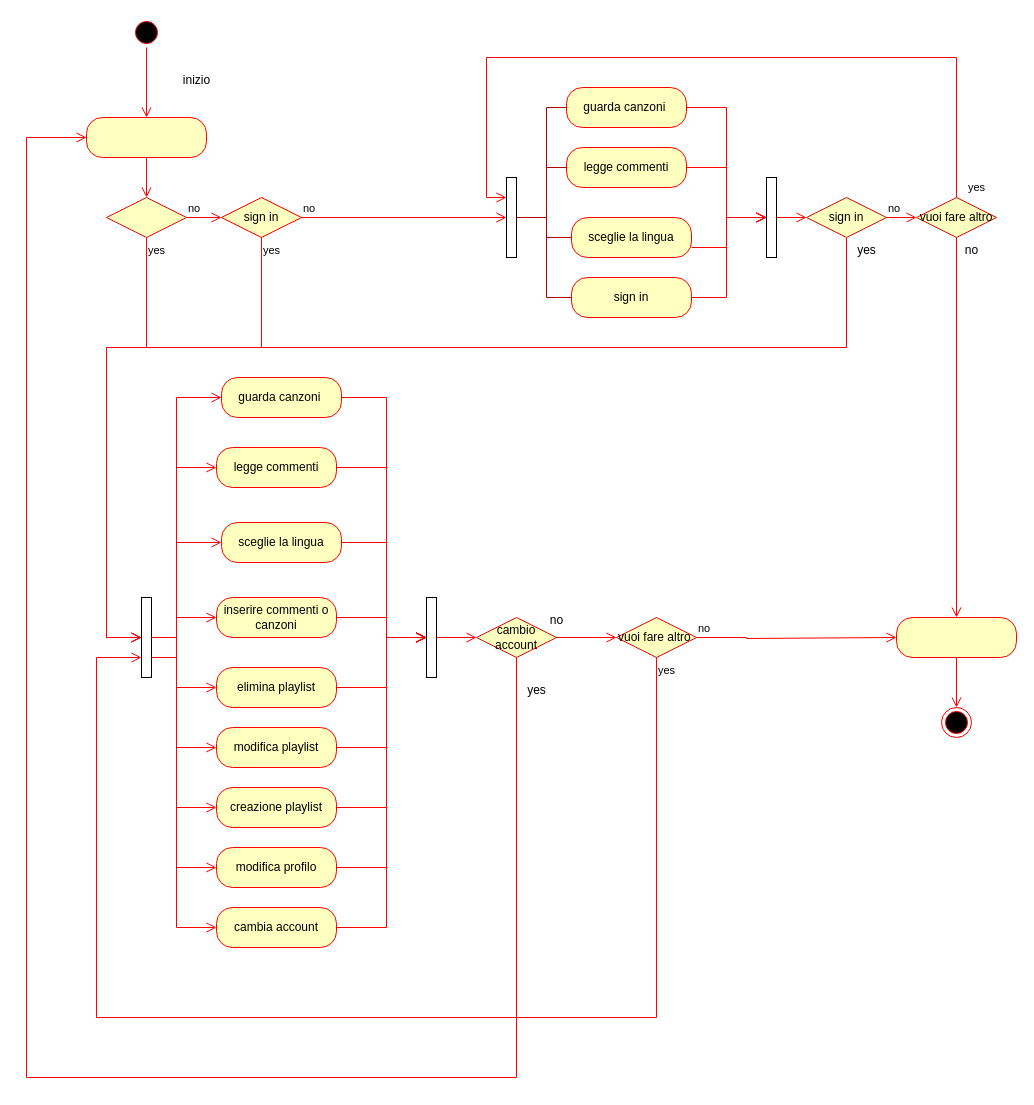
Some shapes in this 1034 by 1105 pixel diagram are drawn without their labels. Each missing label, with the centre of its shape:
apre applicazione: the point at 146,137
chiusura applicazione: the point at 956,637
log in: the point at 146,217
